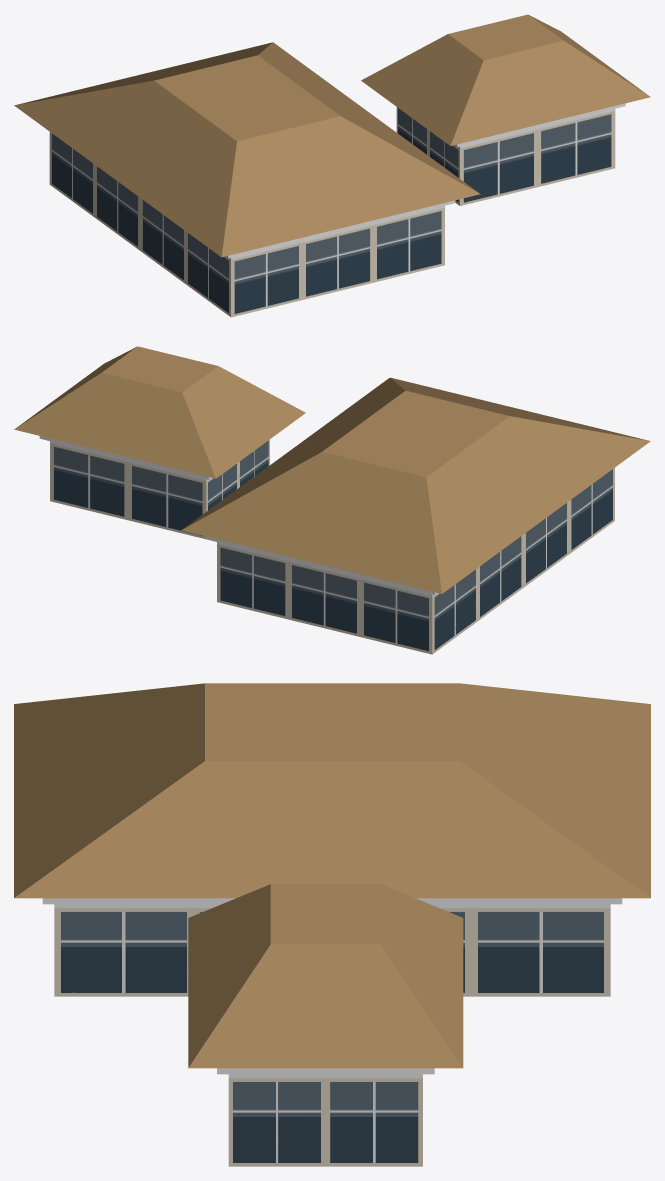
File: kokoa.glb
The picture shows the model from 3 angles, top to bottom: view 1: azimuth 30°, elevation 25°; view 2: azimuth 150°, elevation 25°; view 3: azimuth 270°, elevation 25°; orthographic projection. The views are drawn at different scales.
Parts seen in each view (by area): view 1: kokoa_lod0; view 2: kokoa_lod0; view 3: kokoa_lod0.
Boxes of the visible parts, box(x1,y1,x2,y2) form: kokoa_lod0: box(14, 14, 650, 317); kokoa_lod0: box(14, 346, 650, 654); kokoa_lod0: box(14, 683, 650, 1166).
Size of what is drawn, in the model's own units: 25.7 by 6.4 by 19.
Materials: 3 (1 with a texture image).
